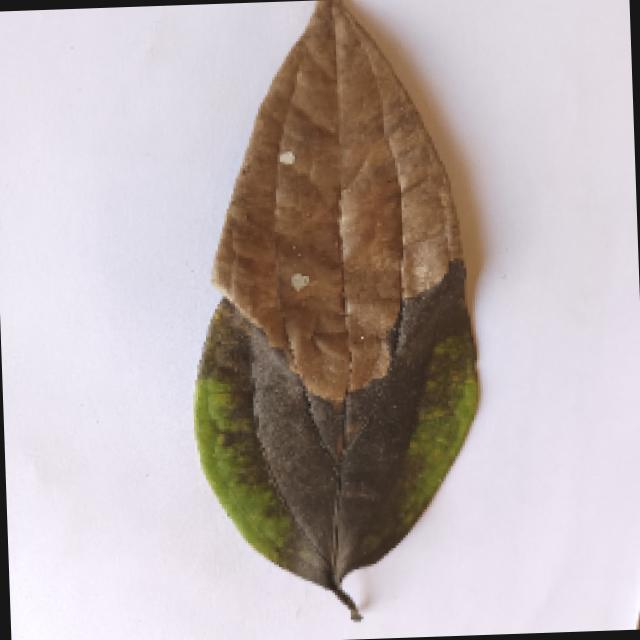footrot: (181, 0, 490, 619)
